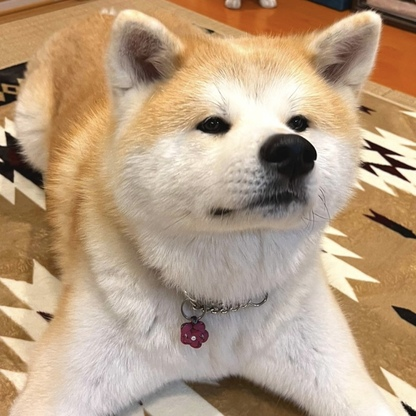akita: (11, 1, 389, 416)
